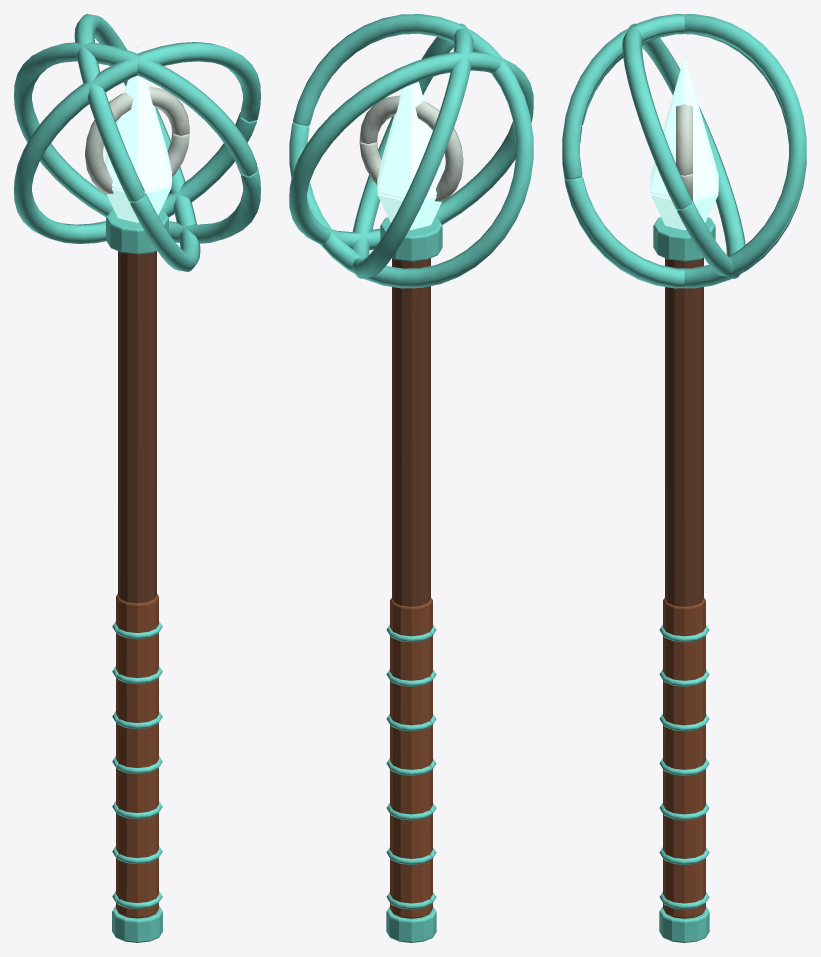
The model's file is item_040.glb.
3 renders of one model, left to right at view 1: azimuth 30°, elevation 25°; view 2: azimuth 150°, elevation 25°; view 3: azimuth 270°, elevation 25°, orthographic.
Parts seen in each view (by area): view 1: Item_040_armillary_compass; view 2: Item_040_armillary_compass; view 3: Item_040_armillary_compass.
Boxes of the visible parts, x1,y1,x2,y2 form: Item_040_armillary_compass: (14, 14, 260, 942); Item_040_armillary_compass: (289, 14, 533, 942); Item_040_armillary_compass: (562, 14, 806, 942).
Bounding box in the file's own units: 0.4957 × 1.78 × 0.4402.
